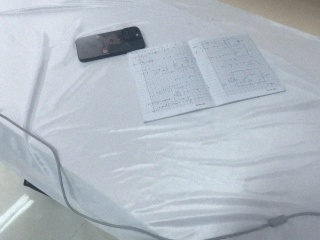phone: (75, 26, 147, 63)
